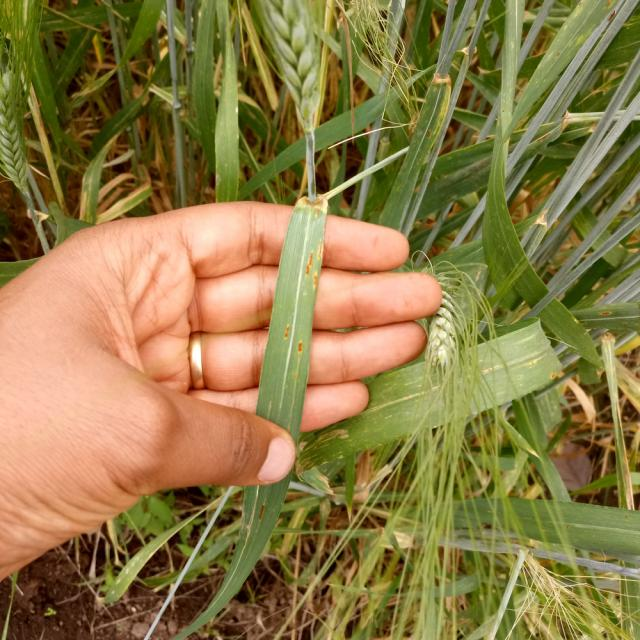wheat-stemrust: (255, 198, 328, 442)
